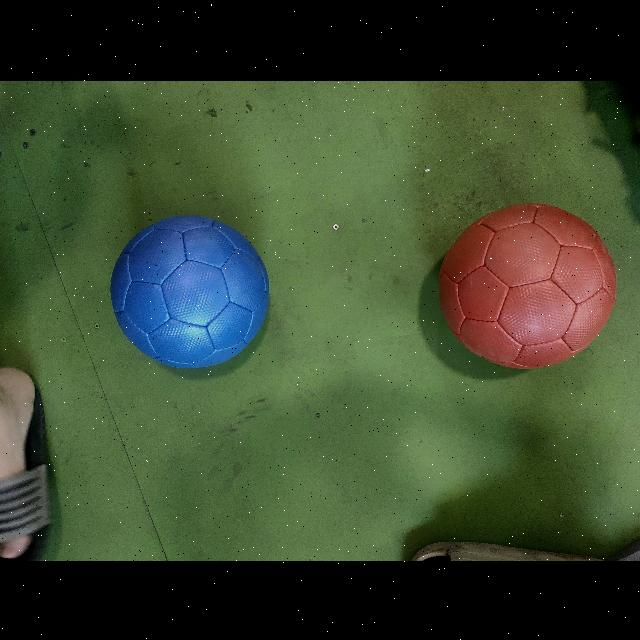B: (110, 211, 270, 371)
R: (437, 202, 615, 370)
